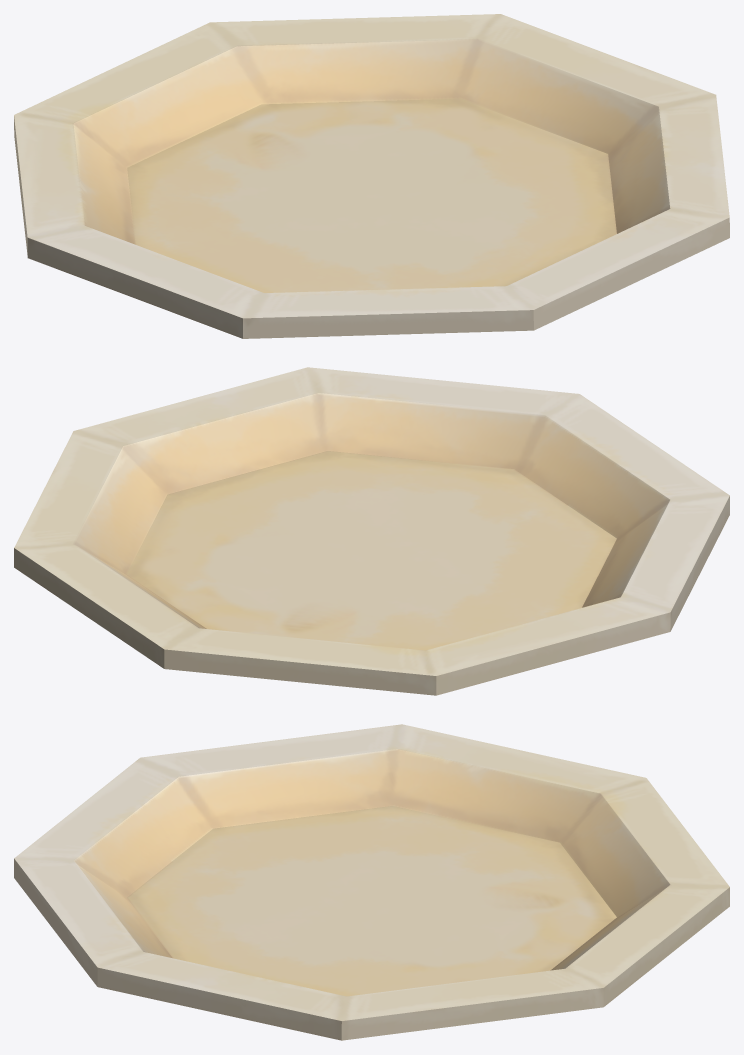
Rendered from clean_dish.fbx.
3 views of the same model, one above another, from view 1: azimuth 30°, elevation 25°; view 2: azimuth 150°, elevation 25°; view 3: azimuth 270°, elevation 25° (orthographic). The views are drawn at different scales.
Visible parts, largest first — view 1: p_Plate; view 2: p_Plate; view 3: p_Plate.
Boxes of the visible parts, <box> form: p_Plate: <box>14,14,729,338</box>; p_Plate: <box>14,367,729,695</box>; p_Plate: <box>14,724,729,1040</box>.
Size of the model in its own units: 303 by 32.94 by 303.
Materials: 1 (1 with a texture image).
